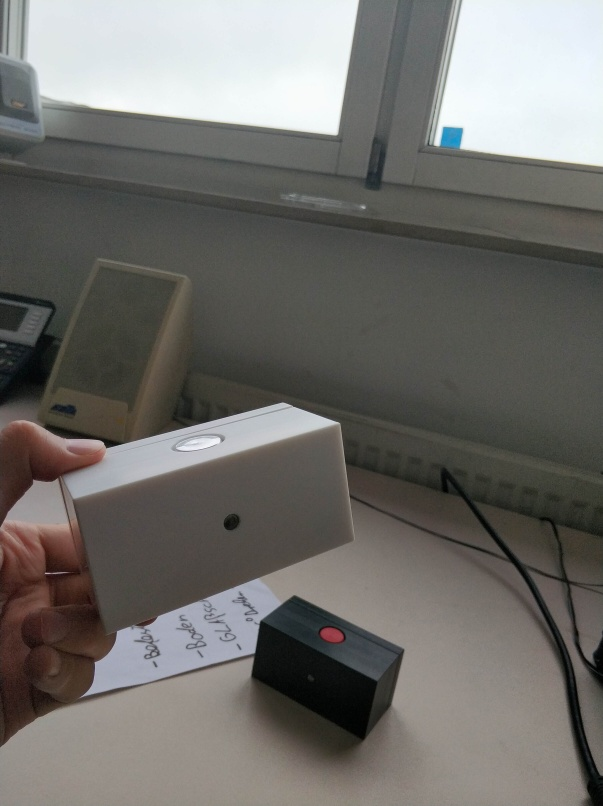black+black+red: (246, 593, 407, 747)
white+white+silver: (53, 398, 358, 640)
